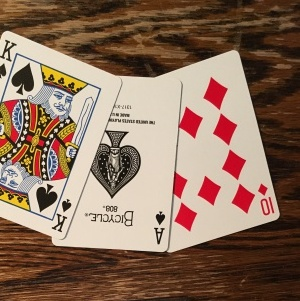card: (169, 49, 282, 252), (82, 73, 182, 252)
